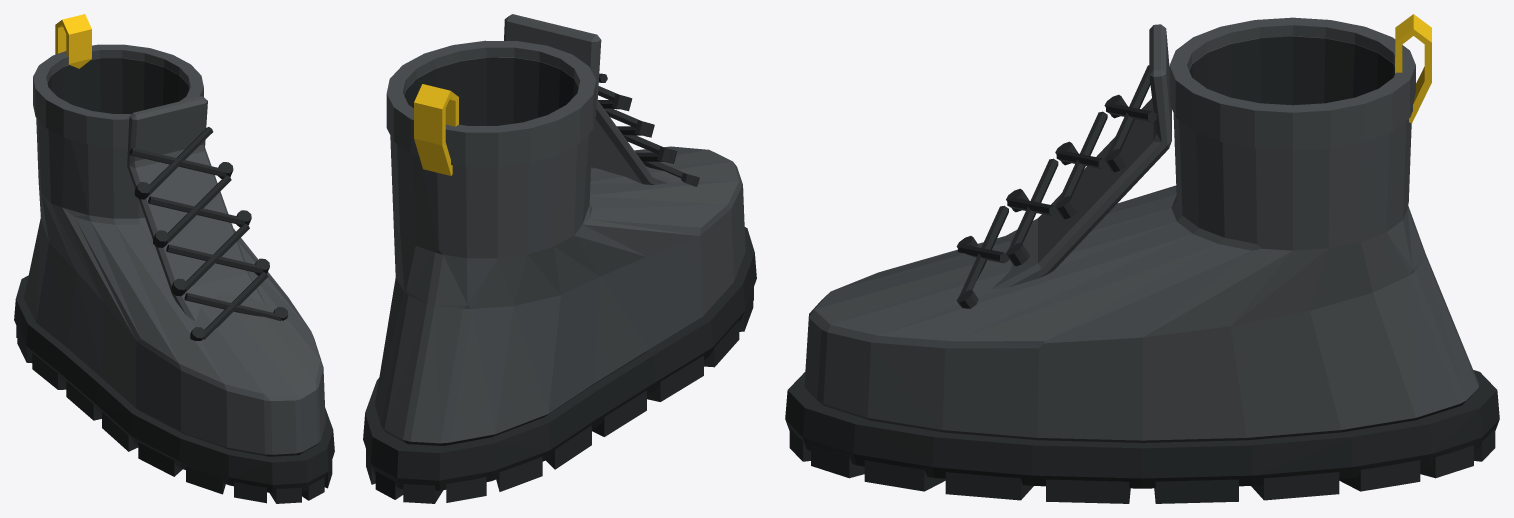
Rendered from Boot_R.fbx.
The picture shows the model from 3 angles, left to right: view 1: azimuth 30°, elevation 25°; view 2: azimuth 150°, elevation 25°; view 3: azimuth 270°, elevation 25°; orthographic projection. The views are drawn at different scales.
Visible parts, largest first — view 1: Boot_R_Upper, Boot_R_Sole, Boot_R_Tongue, Boot_R_Laces, Boot_R_PaddedCollar, Boot_R_PullLoop; view 2: Boot_R_Upper, Boot_R_Sole, Boot_R_PaddedCollar, Boot_R_Tongue, Boot_R_PullLoop, Boot_R_Laces; view 3: Boot_R_Upper, Boot_R_Sole, Boot_R_PaddedCollar, Boot_R_Tongue, Boot_R_Laces, Boot_R_PullLoop.
Part boxes in pixels (x1,y1,x2,y2): Boot_R_Upper: [24, 58, 325, 456]; Boot_R_Sole: [14, 275, 334, 503]; Boot_R_Tongue: [127, 96, 264, 321]; Boot_R_Laces: [129, 127, 288, 340]; Boot_R_PaddedCollar: [33, 44, 203, 147]; Boot_R_PullLoop: [55, 14, 91, 68]; Boot_R_Upper: [375, 57, 745, 445]; Boot_R_Sole: [363, 227, 756, 503]; Boot_R_PaddedCollar: [386, 40, 596, 167]; Boot_R_Tongue: [504, 14, 670, 184]; Boot_R_PullLoop: [414, 84, 458, 175]; Boot_R_Laces: [598, 73, 699, 186]; Boot_R_Upper: [804, 36, 1478, 442]; Boot_R_Sole: [785, 370, 1499, 503]; Boot_R_PaddedCollar: [1169, 17, 1415, 150]; Boot_R_Tongue: [992, 24, 1171, 288]; Boot_R_Laces: [956, 65, 1156, 308]; Boot_R_PullLoop: [1395, 14, 1431, 123].
Bounding box in the file's own units: 0.11 × 0.19 × 0.29.
